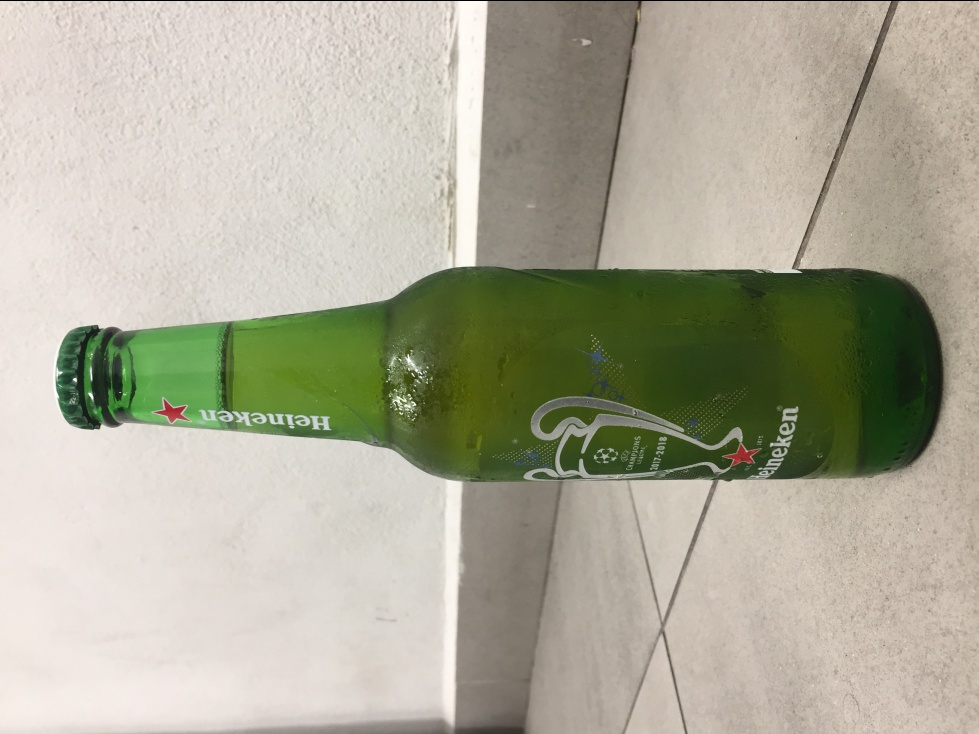heineken: (51, 264, 945, 486)
